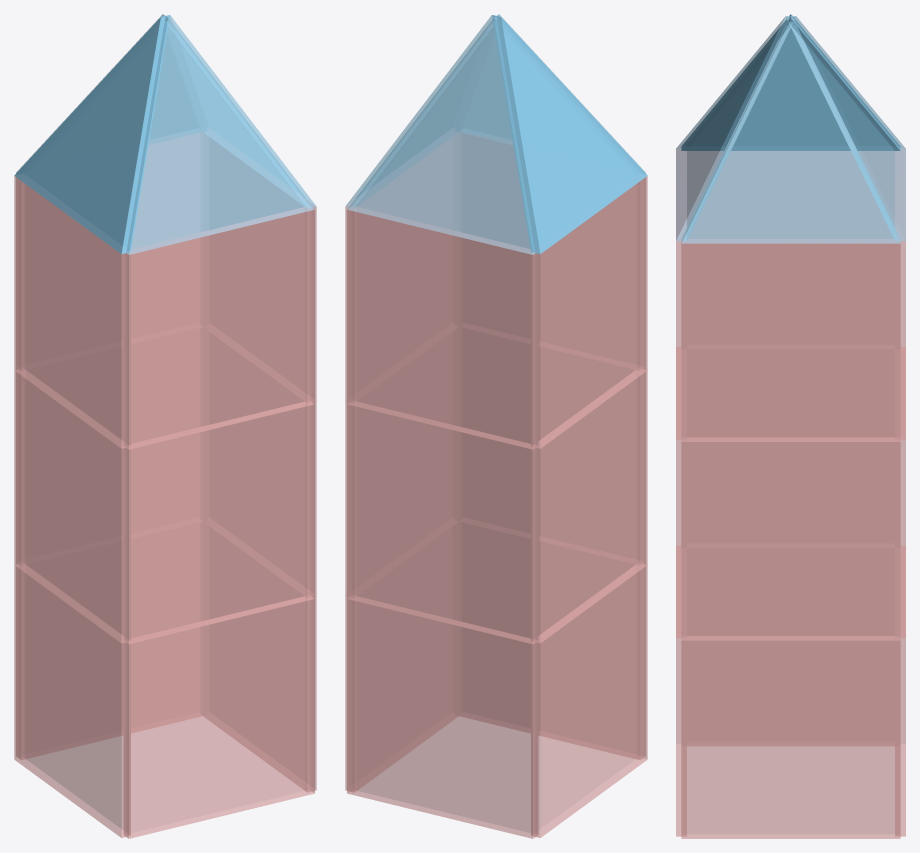
Rendered from torre_step17.glb.
3 renders of one model, left to right at view 1: azimuth 30°, elevation 25°; view 2: azimuth 150°, elevation 25°; view 3: azimuth 270°, elevation 25°, orthographic.
Visible parts, largest first — view 1: qN, qN.002, qN.001, qS, qS.001, qS.002, qW.001, qW, qW.002, tri_N, qE, qE.002 (+4 smaller); view 2: qS, qS.001, qS.002, qN, qN.001, qN.002, qW, qW.001, qW.002, tri_S, qE, qE.001 (+4 smaller); view 3: qE.001, qE.002, qE, qW.001, qW, qW.002, tri_E, tri_W, tri_N, tri_S, qN.002, qS.002 (+4 smaller).
Part boxes in pixels (<box>): qN: <box>124,596,314,838</box>; qN.002: <box>124,207,314,449</box>; qN.001: <box>124,402,314,643</box>; qS: <box>16,522,202,759</box>; qS.001: <box>16,328,201,565</box>; qS.002: <box>16,133,202,370</box>; qW.001: <box>14,369,130,643</box>; qW: <box>14,564,130,837</box>; qW.002: <box>14,176,130,448</box>; tri_N: <box>126,14,314,254</box>; qE: <box>203,525,316,792</box>; qE.002: <box>204,136,316,402</box>; qS: <box>347,596,537,838</box>; qS.001: <box>347,402,537,643</box>; qS.002: <box>347,207,537,449</box>; qN: <box>459,522,645,759</box>; qN.001: <box>460,328,645,565</box>; qN.002: <box>459,133,645,370</box>; qW: <box>531,564,647,837</box>; qW.001: <box>531,369,647,643</box>; qW.002: <box>531,176,647,448</box>; tri_S: <box>347,14,535,254</box>; qE: <box>345,525,458,792</box>; qE.001: <box>345,330,458,597</box>; qE.001: <box>681,437,900,640</box>; qE.002: <box>681,239,900,441</box>; qE: <box>681,636,900,838</box>; qW.001: <box>687,349,894,547</box>; qW: <box>687,548,894,745</box>; qW.002: <box>687,151,894,348</box>; tri_E: <box>681,15,900,243</box>; tri_W: <box>681,14,900,150</box>; tri_N: <box>676,16,795,241</box>; tri_S: <box>786,16,905,241</box>; qN.002: <box>676,149,686,439</box>; qS.002: <box>895,149,905,439</box>.
Size of the model in its own units: 1.05 by 3.9 by 1.05.
